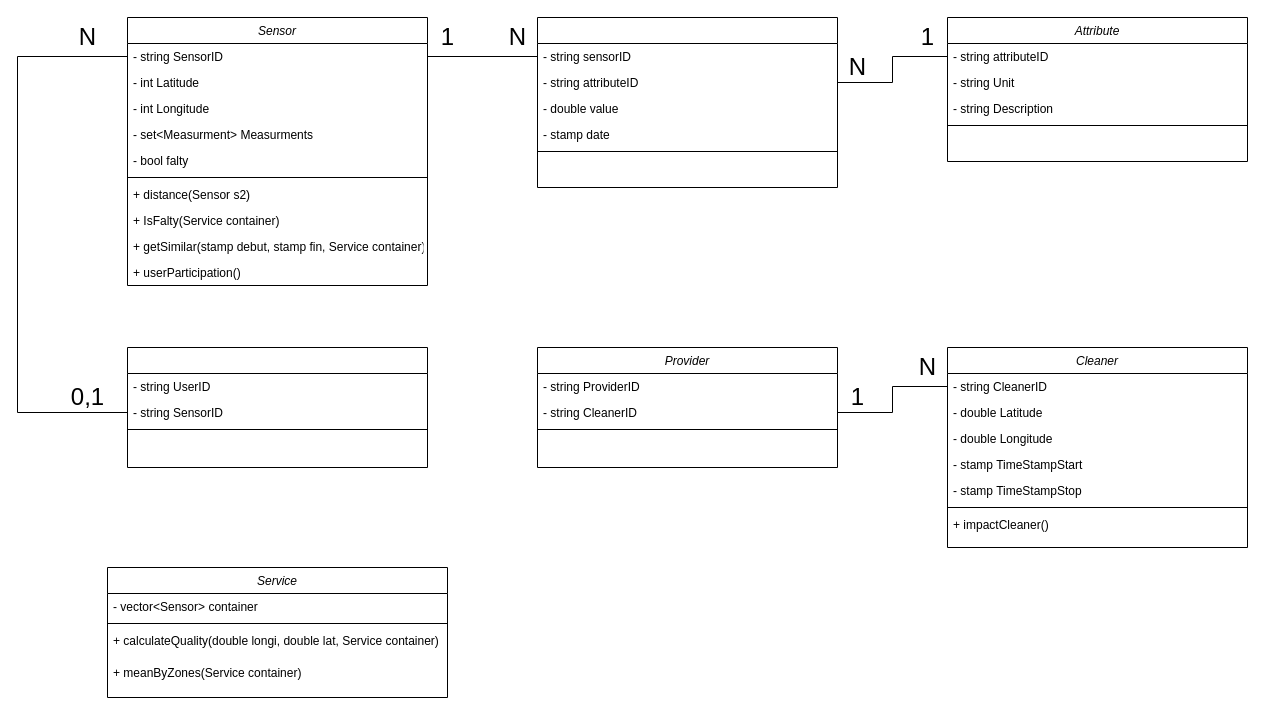
Some shapes in this 1265 by 715 pixel diagram are drawn without their labels. The shapes that lost their labels are listed below. From the top down, each one's box as (x1, y1, x2, y2) in pixels, then its label:
(536, 16, 838, 188): Measurment
(126, 346, 428, 468): PrivateUser
